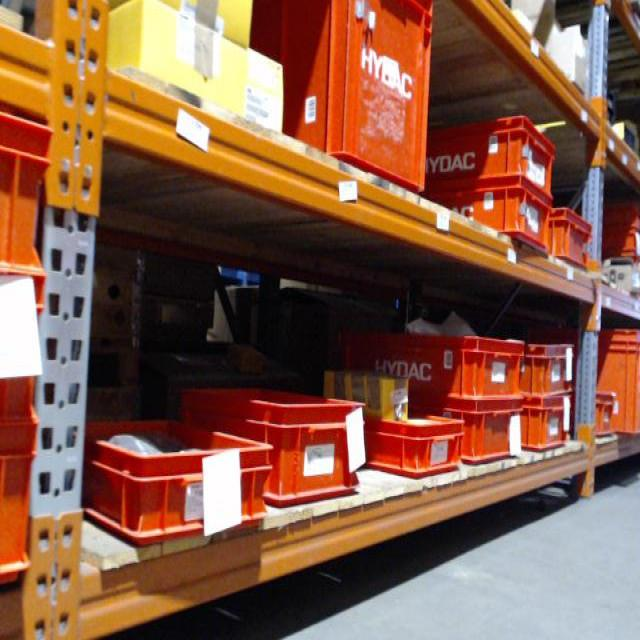small_load_carrier: (255, 1, 434, 207), (86, 421, 270, 545), (183, 391, 360, 508), (338, 335, 528, 407), (4, 103, 60, 307), (547, 326, 639, 440), (433, 117, 556, 200), (439, 187, 550, 278), (354, 413, 465, 477), (3, 264, 40, 443), (417, 405, 523, 466), (2, 433, 33, 588), (549, 204, 596, 278), (520, 392, 573, 457), (525, 341, 573, 406), (586, 392, 621, 446), (598, 227, 637, 256), (600, 205, 640, 227)
